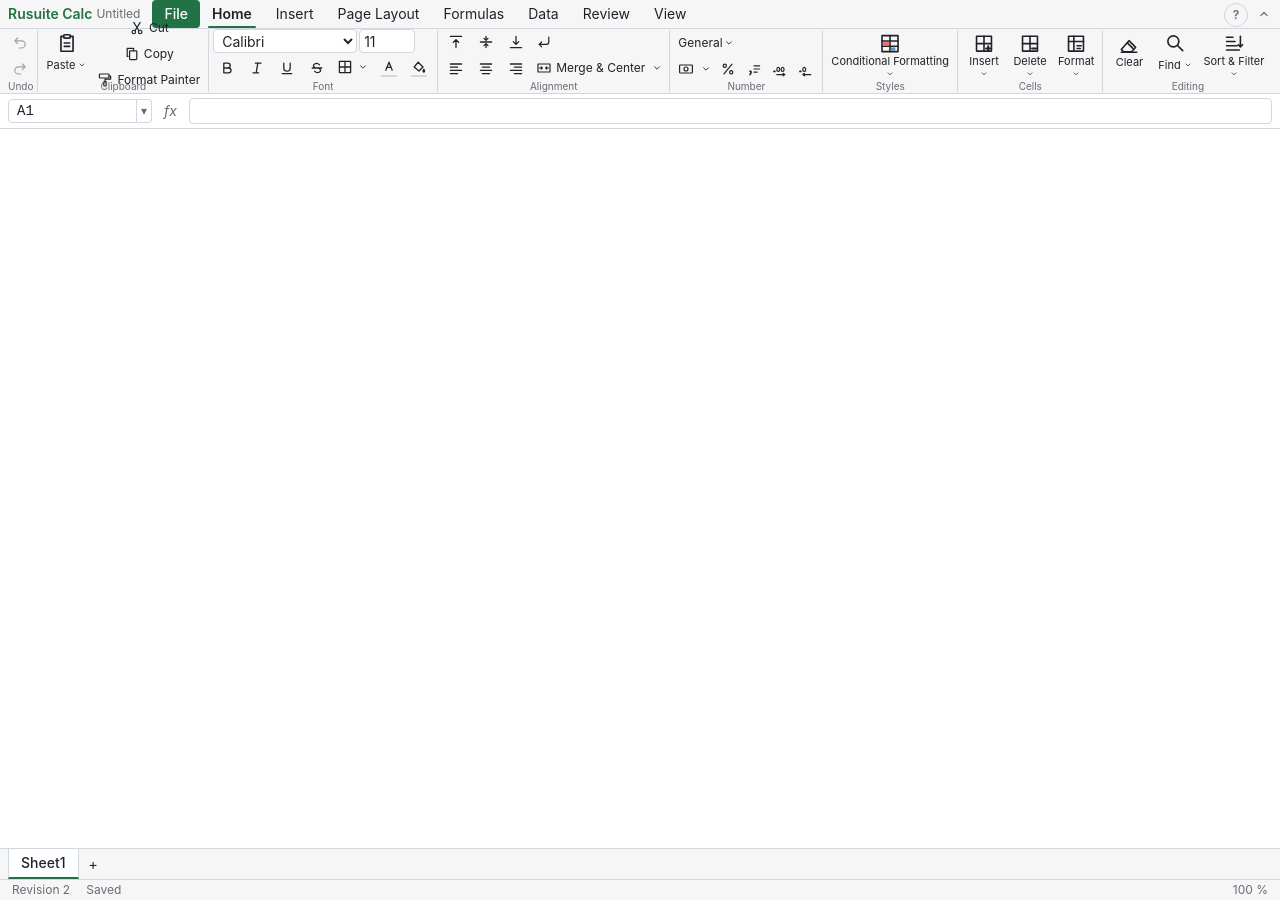
Calc shortcuts › Ctrl+1 opens Format cells; Number with 2 decimals applies 0.00 with a live preview
Expected: the tab "Sheet1" is shown, [8,849,78,879]
Press 1 in the table with test id "grid"
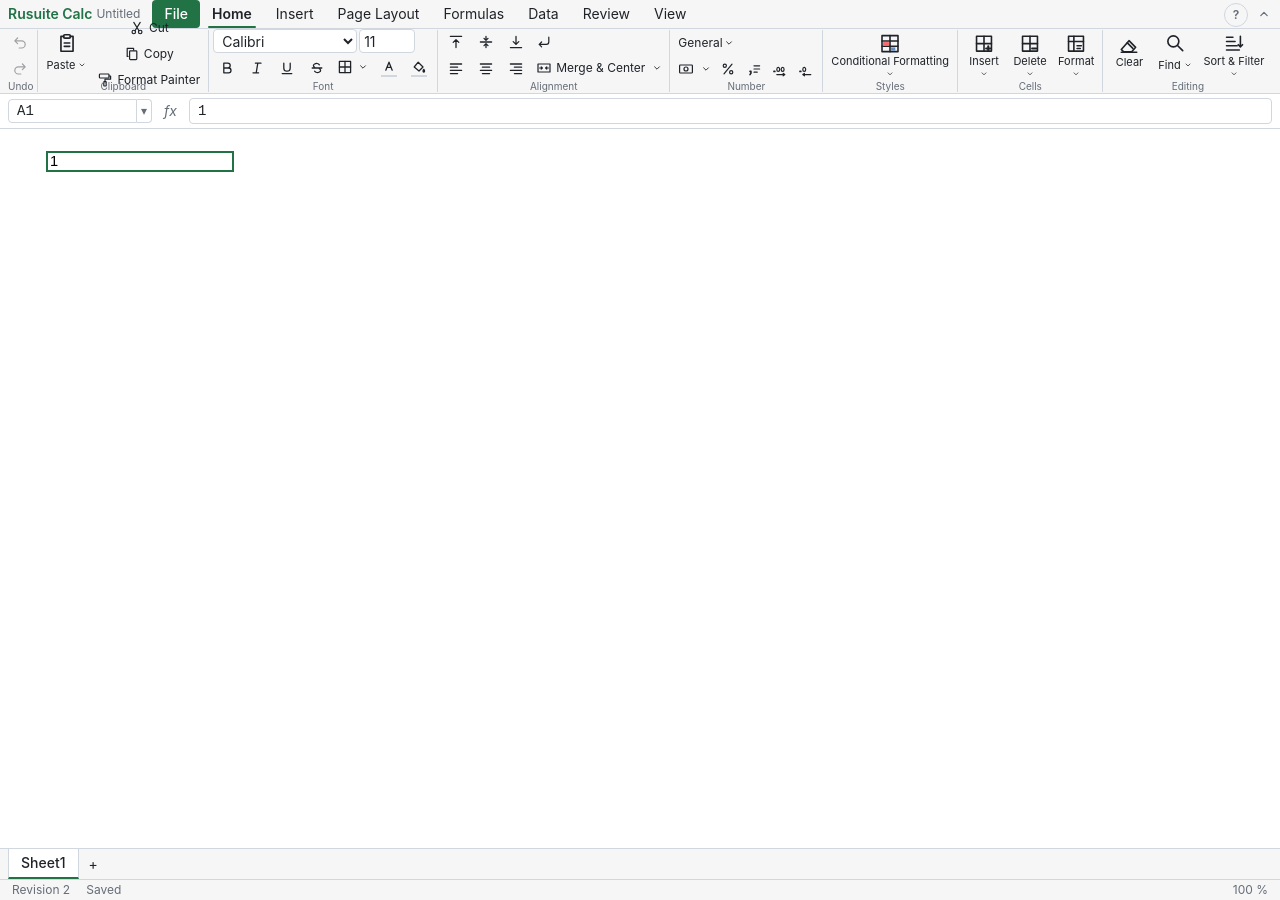
Replace the text in the text box with test id "cell-editor" with "1234.5" at (140, 162), box [46,151,234,172]
Press Enter in the text box with test id "cell-editor", box [46,151,234,172]
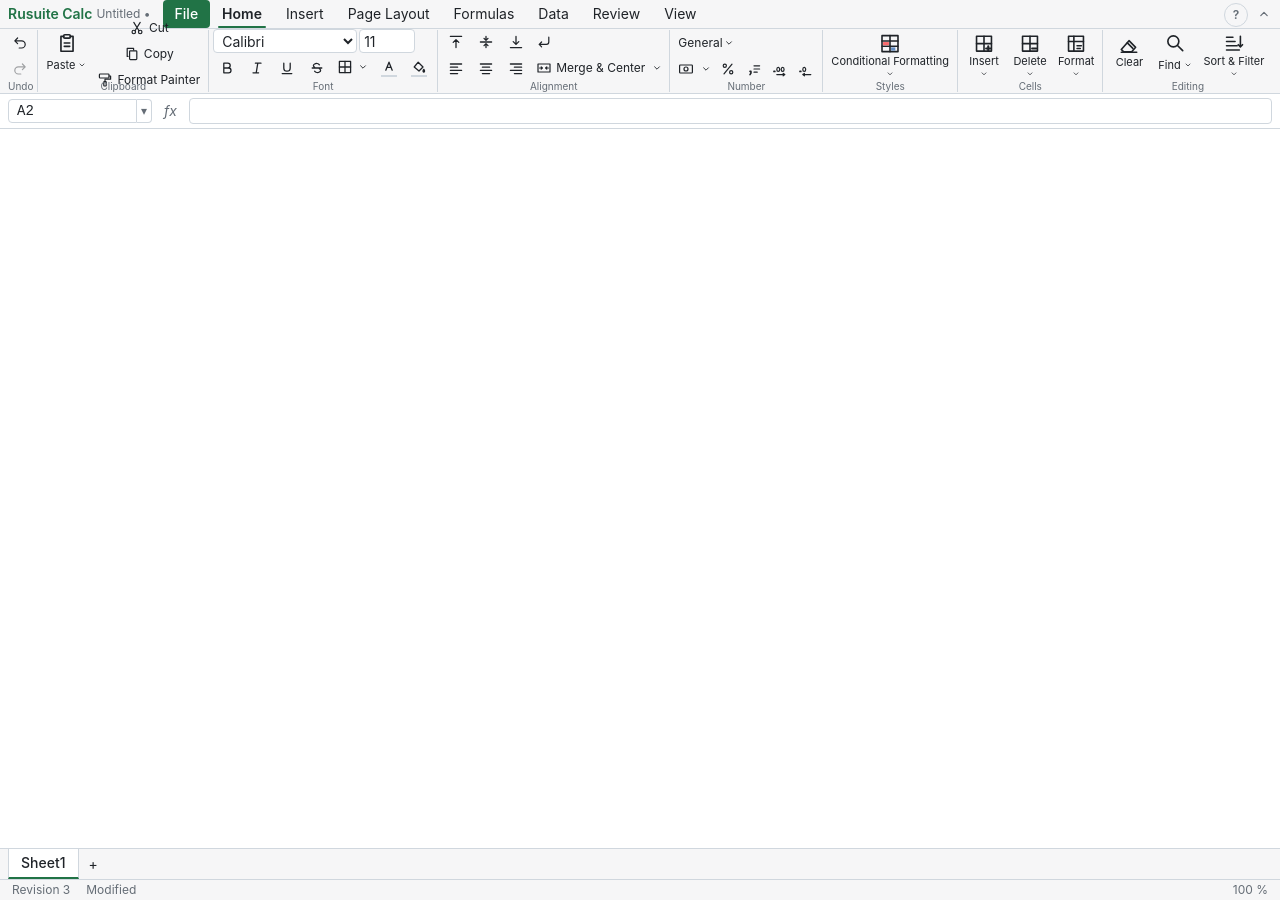
Press ArrowUp in the table with test id "grid"
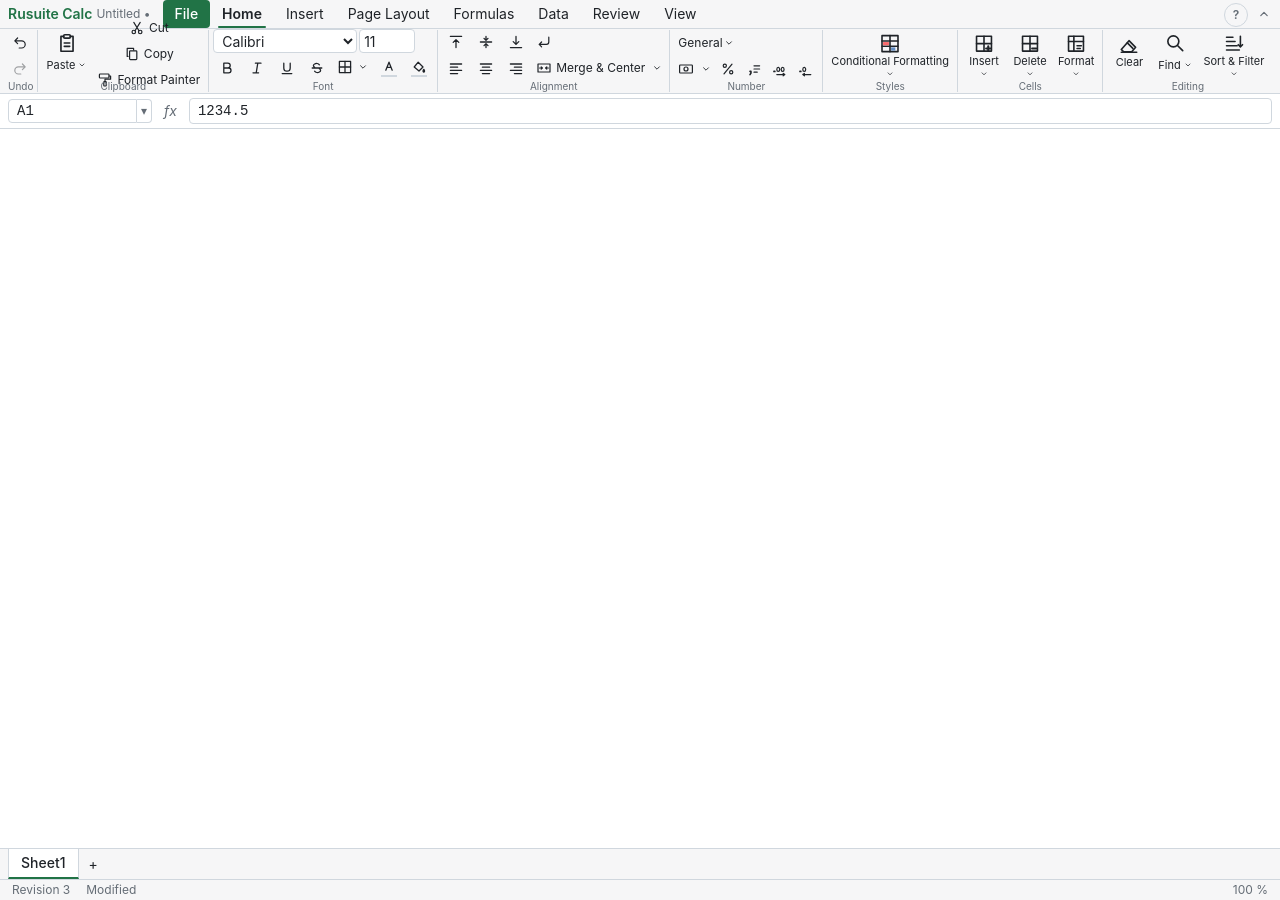
Press 1 in the table with test id "grid"
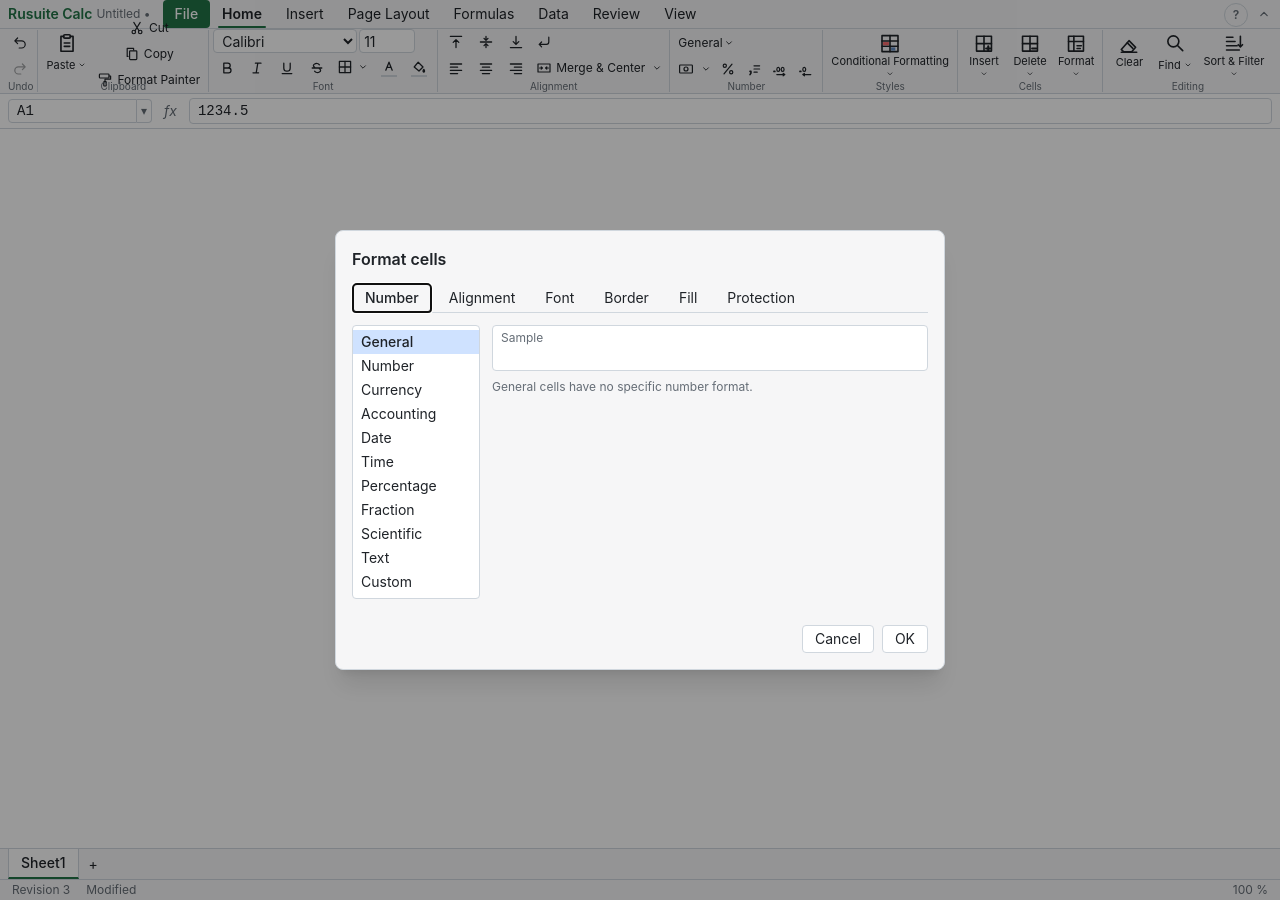
Click the option "Number".
click(416, 366)  # box [353,354,479,378]
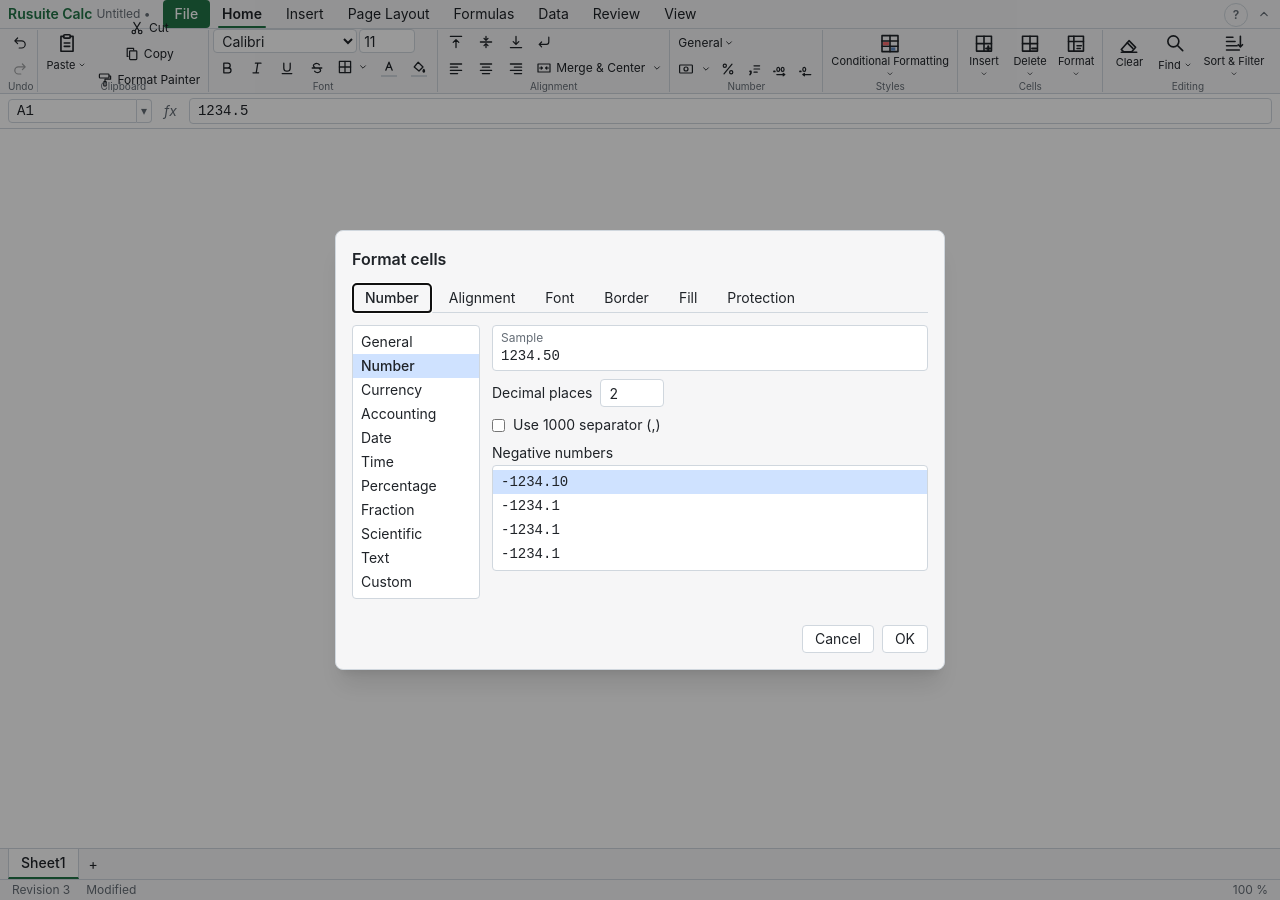
Expected: the text with test id "format-preview" reads "1234.50", [501,348,560,364]
Submit the form, box [352,283,928,653]
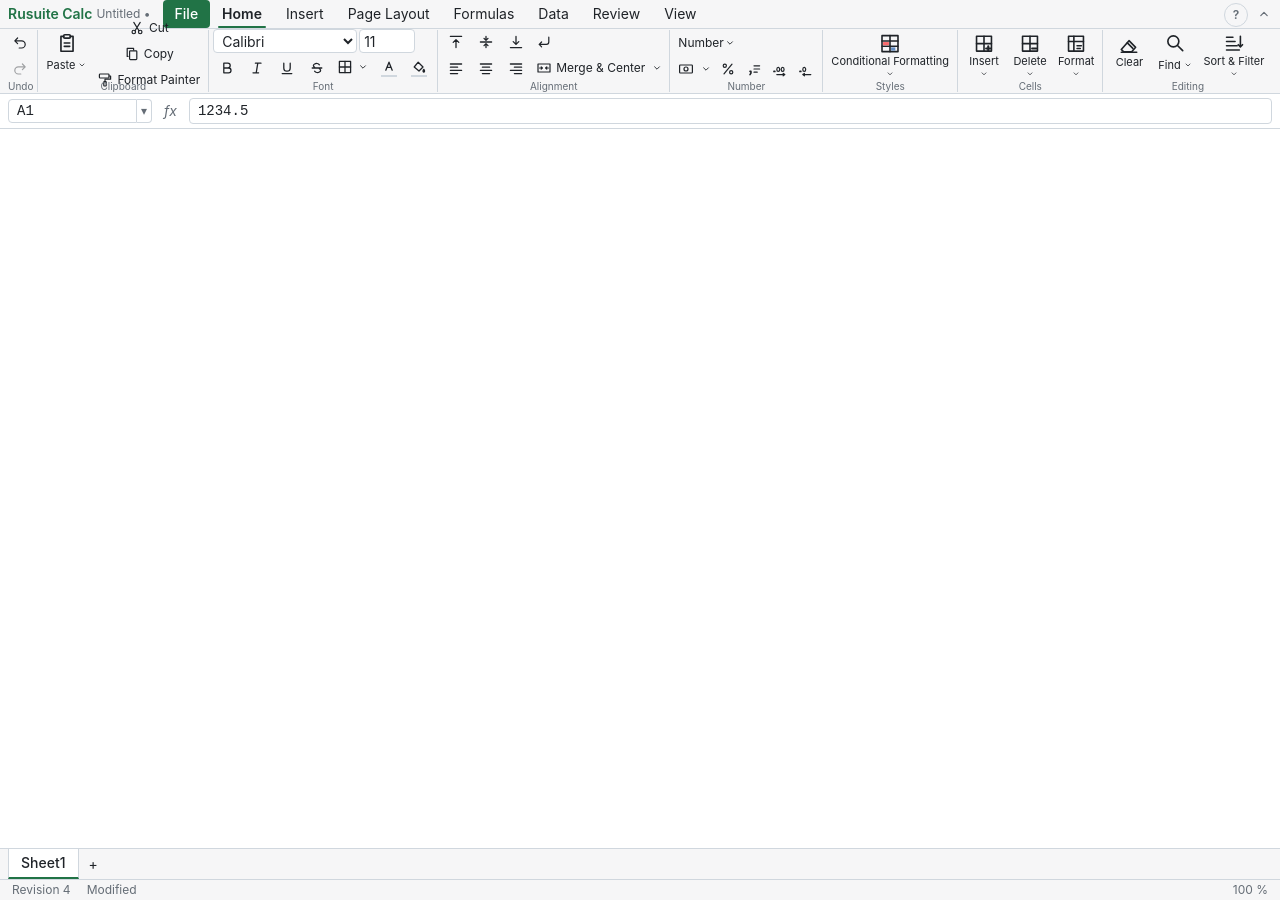
Expected: the dialog is gone
